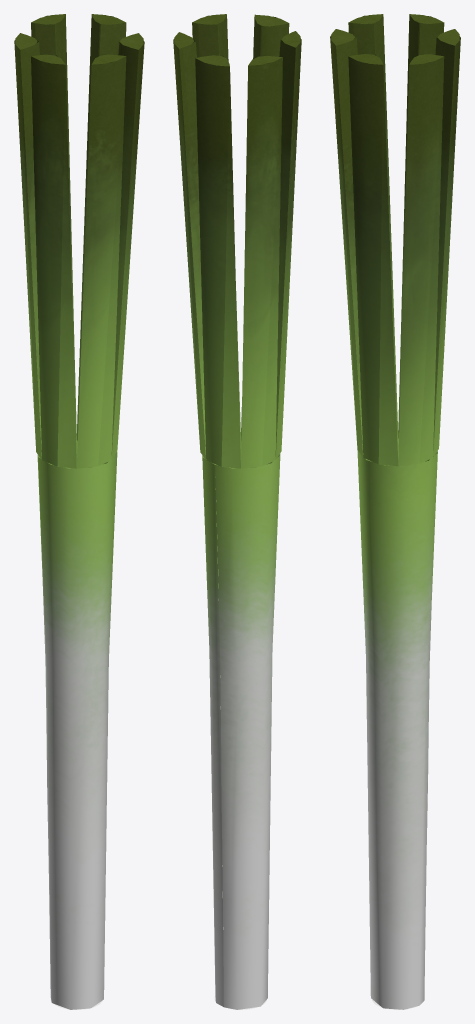
The model's file is verdura.glb.
3 renders of one model, left to right at view 1: azimuth 90°, elevation 25°; view 2: azimuth 150°, elevation 25°; view 3: azimuth 270°, elevation 25°, orthographic.
Visible parts, largest first — view 1: Leek; view 2: Leek; view 3: Leek.
Part boxes in pixels (x1,y1,x2,y2): Leek: [14, 14, 144, 1009]; Leek: [173, 14, 301, 1009]; Leek: [330, 14, 460, 1009].
Size of the model in its own units: 0.2629 by 2.32 by 0.2857.
1 material, 1 textured.
